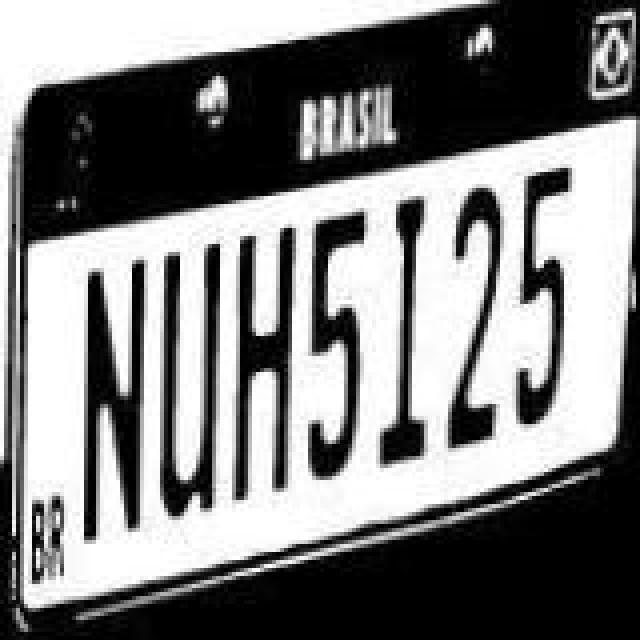2: (440, 168, 512, 452)
5: (304, 202, 368, 478), (518, 152, 578, 428)
H: (234, 220, 302, 492)
I: (380, 184, 444, 472)
N: (82, 248, 158, 556)
U: (154, 228, 230, 528)
